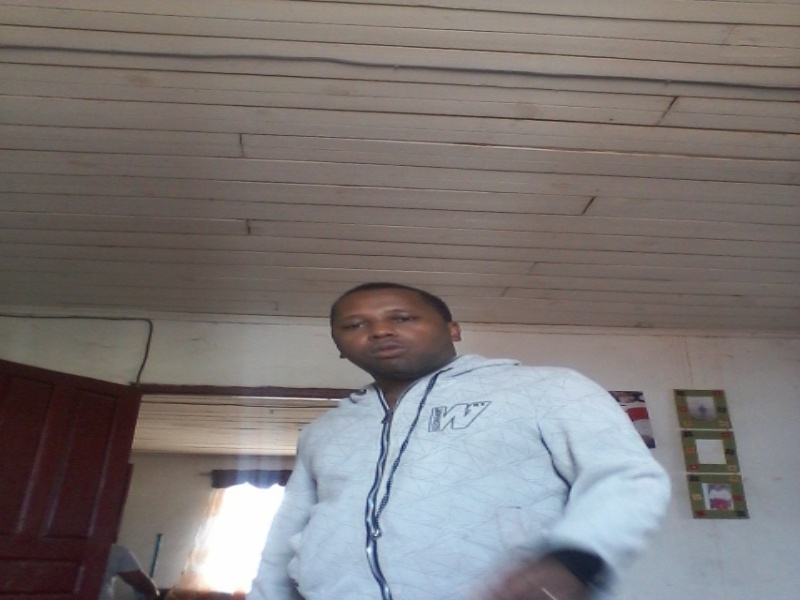TsisyArotava: (322, 266, 456, 396)
